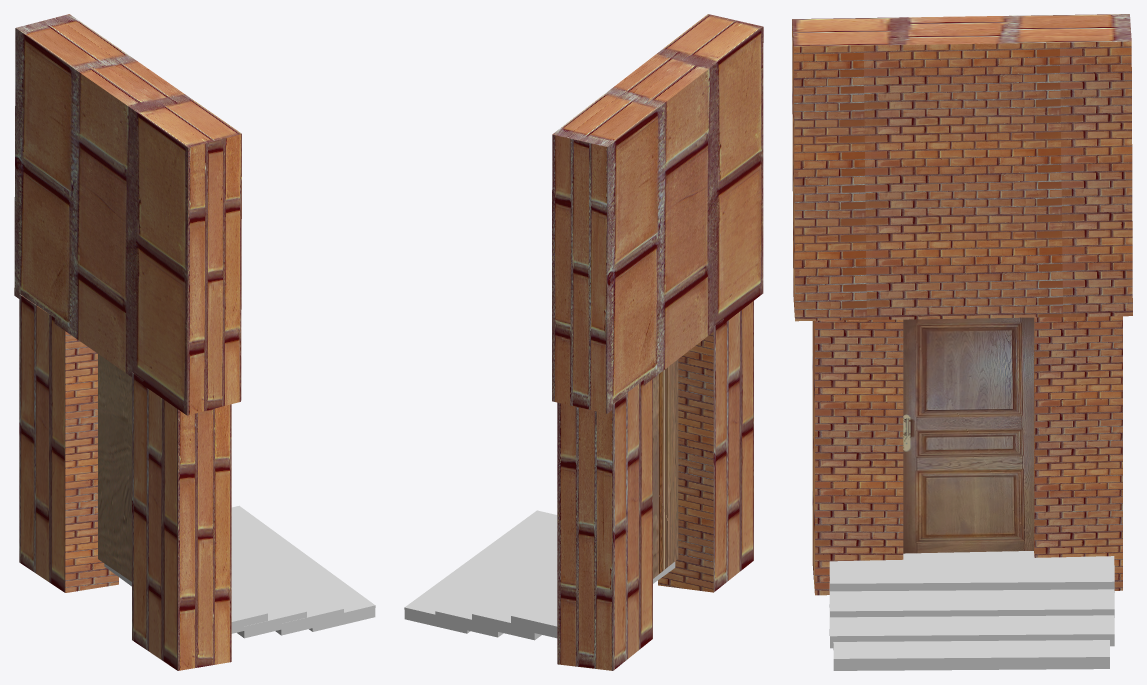
The model's file is wall.fbx.
The picture shows the model from 3 angles, left to right: view 1: azimuth 30°, elevation 25°; view 2: azimuth 150°, elevation 25°; view 3: azimuth 270°, elevation 25°; orthographic projection. The views are drawn at different scales.
Visible parts, largest first — view 1: Cube.004, Cube.006, Куб.019, Куб.024, Куб.011, Куб.140; view 2: Cube.004, Cube.006, Куб.019, Куб.024, Куб.011, Куб.140; view 3: Cube.004, Cube.006, Куб.140, Куб.019, Куб.011, Куб.024.
Part boxes in pixels (left/top/right/bottom): Cube.004: left=14, top=14, right=241, bottom=670; Cube.006: left=98, top=354, right=131, bottom=581; Куб.019: left=231, top=505, right=375, bottom=631; Куб.024: left=231, top=527, right=343, bottom=635; Куб.011: left=231, top=557, right=306, bottom=638; Куб.140: left=104, top=563, right=267, bottom=633; Cube.004: left=552, top=14, right=763, bottom=670; Cube.006: left=653, top=359, right=678, bottom=578; Куб.019: left=404, top=510, right=557, bottom=633; Куб.024: left=435, top=522, right=557, bottom=637; Куб.011: left=472, top=552, right=557, bottom=640; Куб.140: left=511, top=561, right=675, bottom=638; Cube.004: left=792, top=14, right=1132, bottom=595; Cube.006: left=903, top=317, right=1033, bottom=553; Куб.140: left=829, top=551, right=1114, bottom=592; Куб.019: left=833, top=640, right=1109, bottom=670; Куб.011: left=829, top=581, right=1114, bottom=617; Куб.024: left=829, top=608, right=1114, bottom=648.
Size of the model in its own units: 176 by 418 by 235.
Materials: 2 (2 with a texture image).
